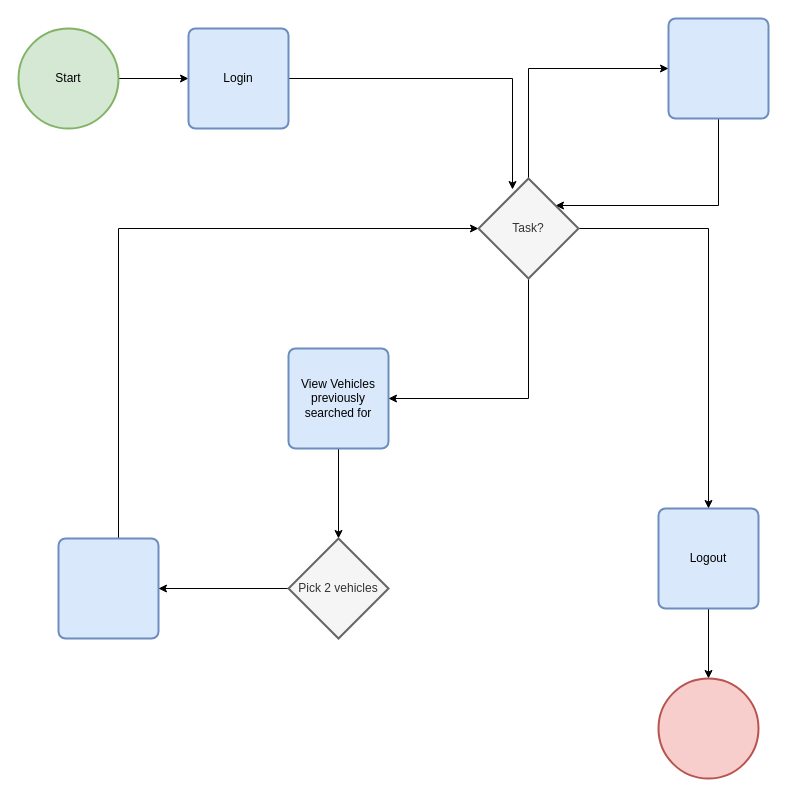
The diagram is 786 pixels wide and 796 high, and some of its shapes have lost their labels. Each missing label, with the centre of its shape:
"End" belongs at (708,728).
"Enter new Vehicle Identification Number" belongs at (718,68).
"View differences in specifications of vehicles." belongs at (108,588).
